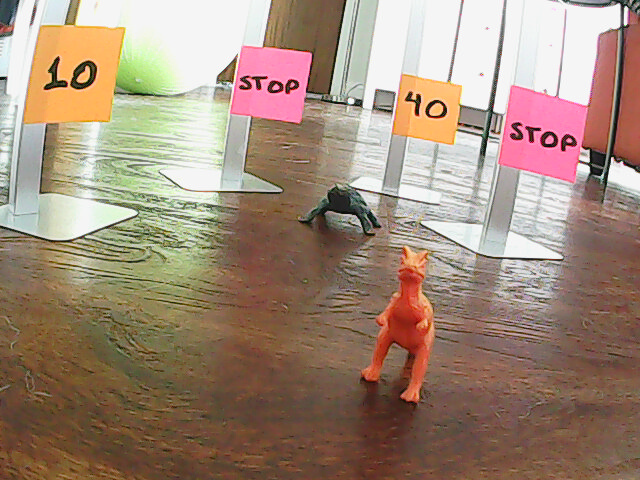10: (28, 33, 115, 124)
40: (400, 82, 453, 144)
dinosaur: (357, 244, 443, 414)
stop: (508, 106, 579, 174), (238, 64, 303, 115)
turtle: (295, 179, 386, 243)
